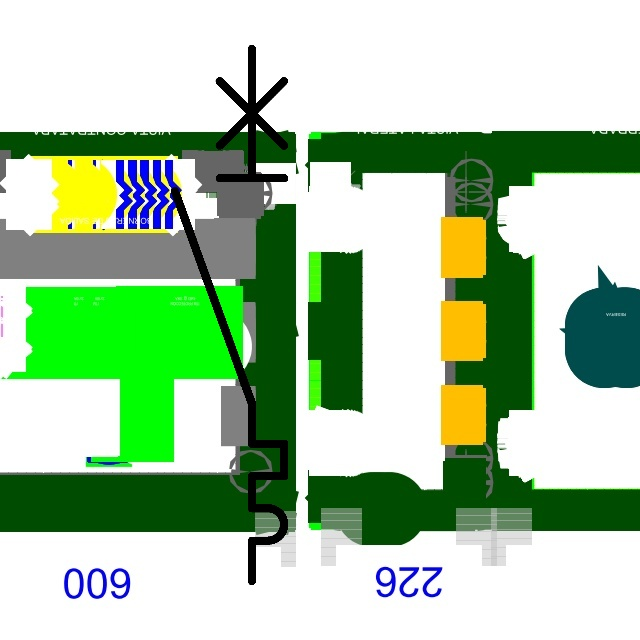interruptor_termomagnetico: (161, 35, 298, 595)
